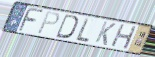D: (55, 13, 80, 40)
F: (16, 7, 46, 32)
H: (109, 23, 139, 51)
K: (93, 20, 117, 47)
L: (75, 17, 91, 43)
P: (36, 11, 61, 35)
